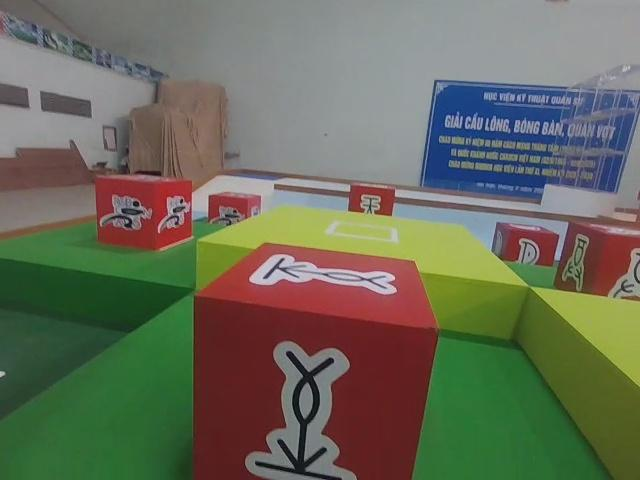R1: (89, 169, 195, 255), (203, 186, 263, 231)
R2 Real: (190, 239, 442, 480), (550, 217, 640, 303), (488, 217, 562, 276)
